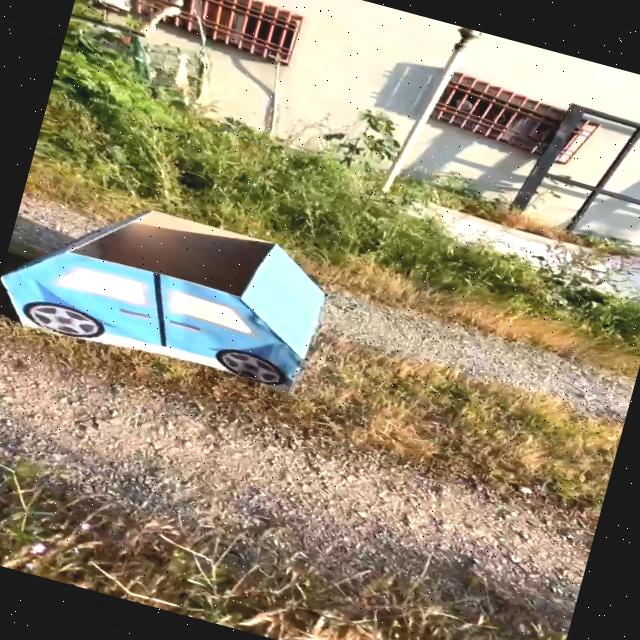blue_car: (0, 147, 386, 431)
